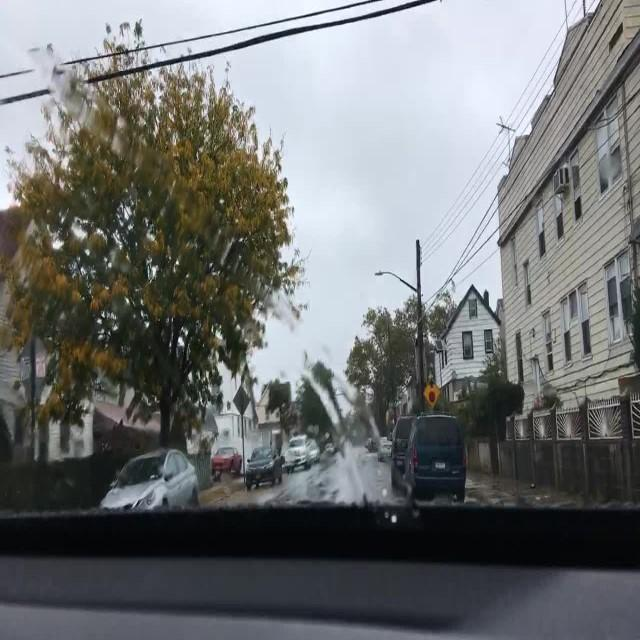normal: (373, 386, 478, 534), (224, 420, 307, 497)
